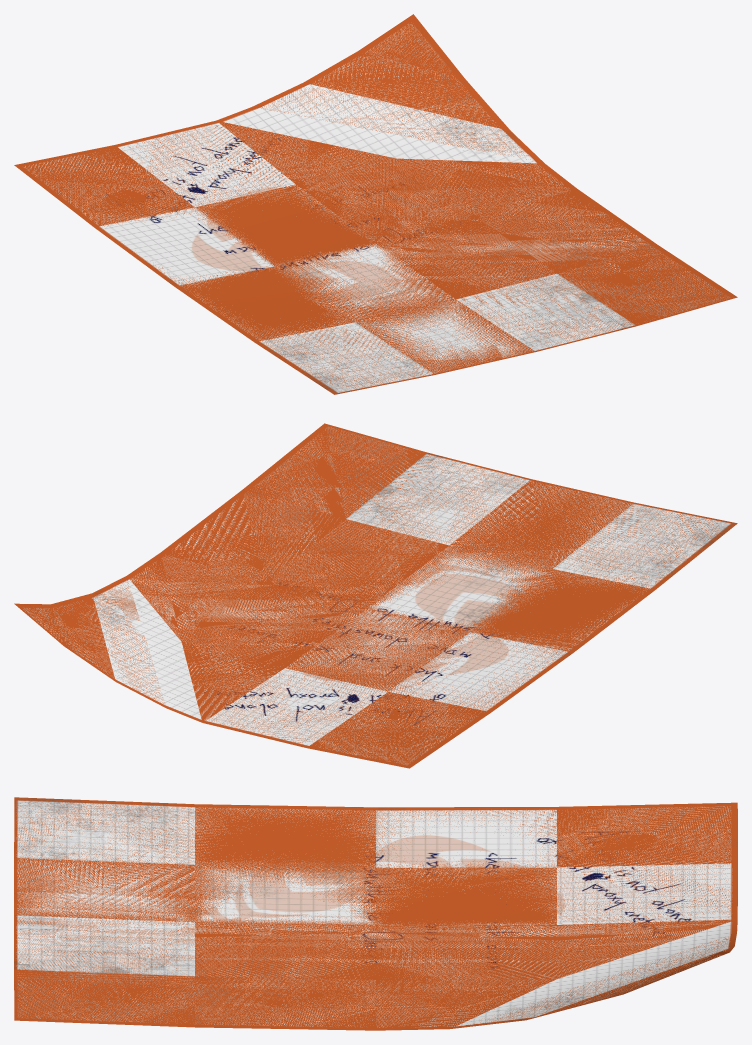
Rendered from security_tasklist_02.dae.
The picture shows the model from 3 angles, top to bottom: view 1: azimuth 30°, elevation 25°; view 2: azimuth 150°, elevation 25°; view 3: azimuth 270°, elevation 25°; orthographic projection. The views are drawn at different scales.
Parts seen in each view (by area): view 1: 02; view 2: 02; view 3: 02.
Boxes of the visible parts, left/top/right/bottom form: 02: left=14, top=14, right=737, bottom=394; 02: left=14, top=423, right=737, bottom=768; 02: left=14, top=797, right=737, bottom=1030.
Size of the model in its own units: 0.2536 by 0.0423 by 0.349.
